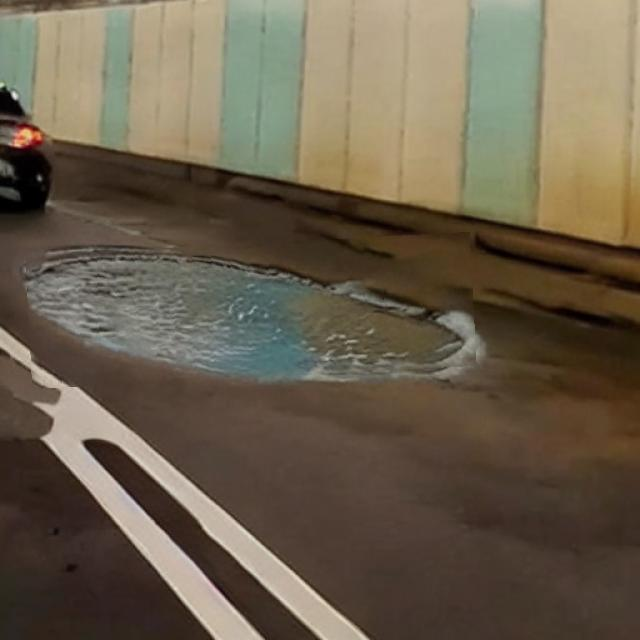puddle: (29, 239, 476, 384)
